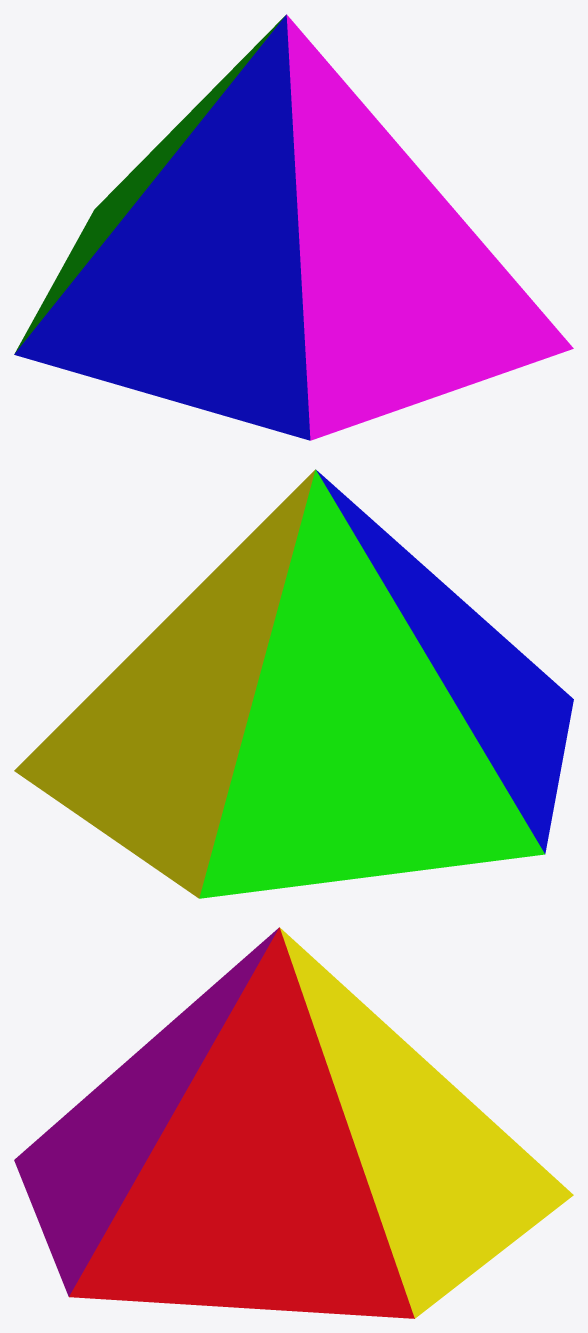
File: limas-segilima.glb
The picture shows the model from 3 angles, top to bottom: view 1: azimuth 30°, elevation 25°; view 2: azimuth 150°, elevation 25°; view 3: azimuth 270°, elevation 25°; orthographic projection. The views are drawn at different scales.
Visible parts, largest first — view 1: Mesh_Mesh_head_geo.001_lambert2SG.001; view 2: Mesh_Mesh_head_geo.001_lambert2SG.001; view 3: Mesh_Mesh_head_geo.001_lambert2SG.001.
Boxes of the visible parts, x1,y1,x2,y2 form: Mesh_Mesh_head_geo.001_lambert2SG.001: (14, 14, 573, 440); Mesh_Mesh_head_geo.001_lambert2SG.001: (14, 469, 573, 898); Mesh_Mesh_head_geo.001_lambert2SG.001: (14, 927, 573, 1318).
Bounding box in the file's own units: 9.96 × 6 × 10.63.
